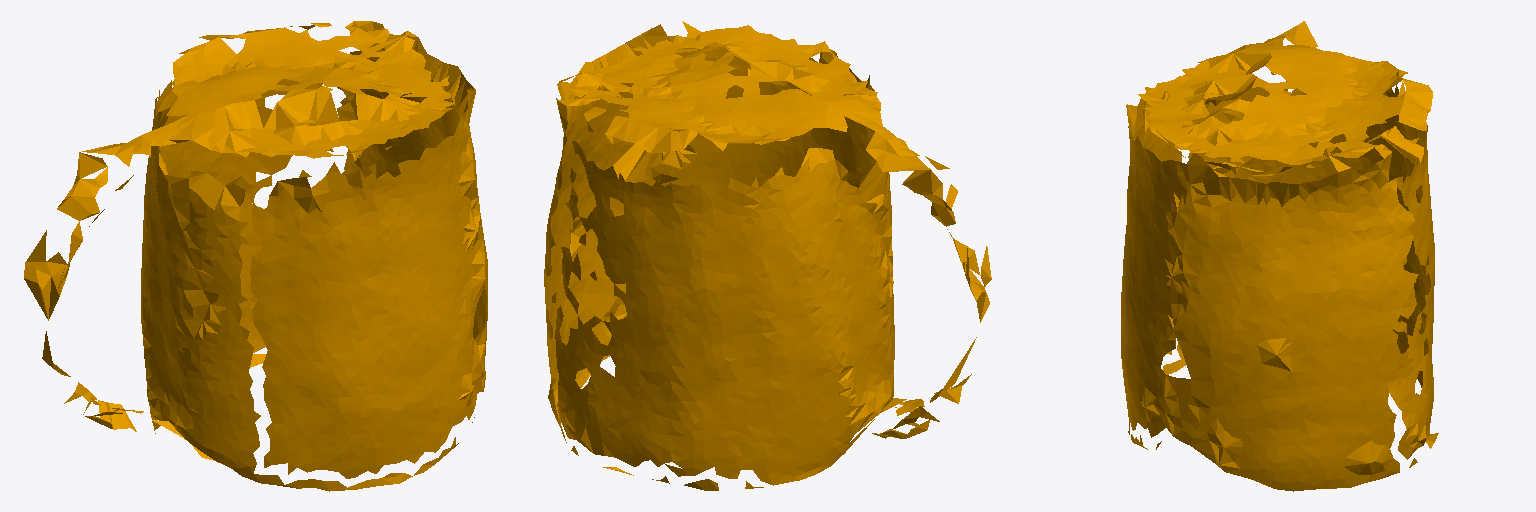
URDF robot description (mug):
<?xml version="1.0"?>
<robot name="mug">
  <link name="mug">
    <visual>
      <origin xyz="0.0 0.0 0.0"/>
      <geometry>
        <!-- <mesh filename="ycb/025_mug/textured.obj" scale="1. 1. 1."/> -->
        <!-- <mesh filename="ycb/rigid_body/red_mug.obj" scale="1. 1. 1."/> -->
        <mesh filename="ycb/red_mug/red_mug.obj" scale="1. 1. 1."/>
      </geometry>
    </visual>
    <collision>
      <origin xyz="0.0 0.0 0.0"/>
      <geometry>
        <!-- <mesh filename="ycb/025_mug/mug_collision.obj" scale="1. 1. 1."/>-->
        <!-- <mesh filename="ycb/rigid_body/red_mug.obj" scale="1. 1. 1."/> -->
        <mesh filename="ycb/red_mug/red_mug.obj" scale="1. 1. 1."/>        
      </geometry>
    </collision>
    <inertial>
      <mass value="0.102"/>
      <inertia ixx="0.0001" ixy="0.0" ixz="0.0" iyy="0.0001" iyz="0.0" izz="0.0001"/>
    </inertial>
  </link>
</robot>

--- Render facts (derived) ---
The picture shows the robot from 3 angles, left to right: view 1: azimuth 30°, elevation 25°; view 2: azimuth 150°, elevation 25°; view 3: azimuth 270°, elevation 25°; orthographic projection.
Robot: mug — 1 links, 0 joints (none); root link mug; default pose: all joints at 0.
Visible links, largest first — view 1: mug; view 2: mug; view 3: mug.
Link boxes in pixels (left/top/right/bottom): mug: left=24, top=21, right=487, bottom=491; mug: left=544, top=21, right=991, bottom=490; mug: left=1121, top=21, right=1438, bottom=491.
Size in the robot's own frame: 0.1312 by 0.0886 by 0.104 metres.
1 mesh visuals loaded from 1 distinct referenced files (1 OBJ).